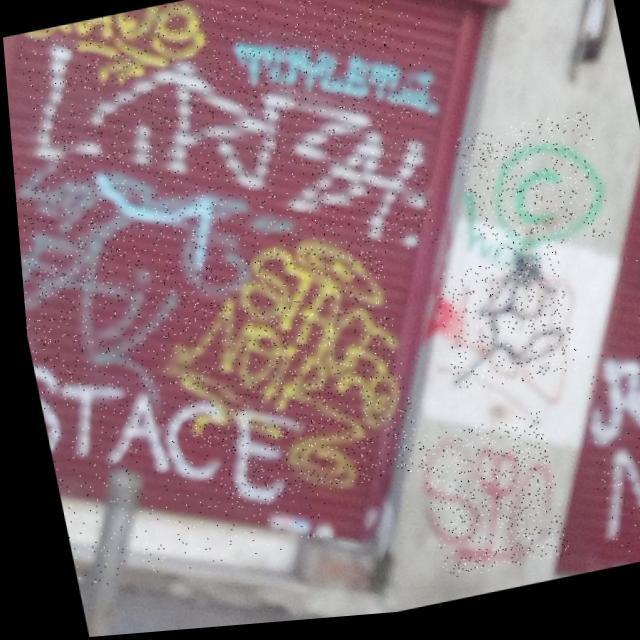-: (13, 0, 439, 322), (8, 119, 314, 414), (23, 304, 325, 593), (152, 230, 418, 520), (226, 8, 442, 158), (406, 418, 560, 588), (449, 117, 608, 270), (426, 257, 574, 402), (14, 0, 210, 102), (569, 348, 640, 495), (579, 438, 640, 577), (630, 313, 640, 392), (628, 258, 640, 323)
